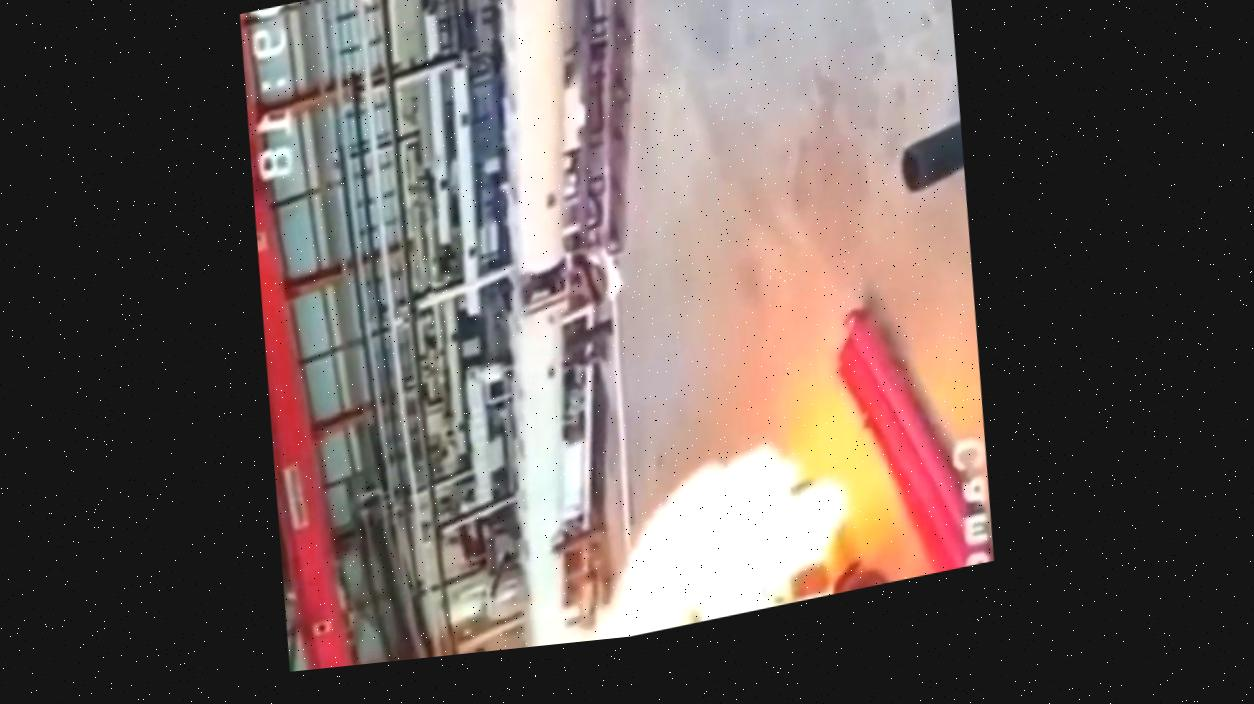fire: (537, 369, 892, 596)
